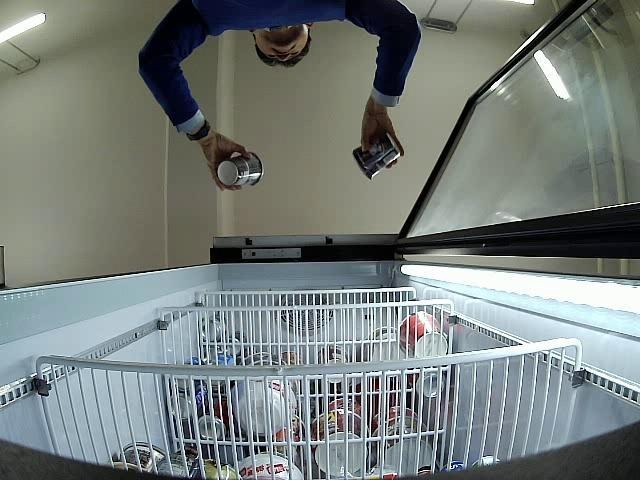08_buldak_S: (352, 132, 401, 180), (218, 153, 263, 187)
